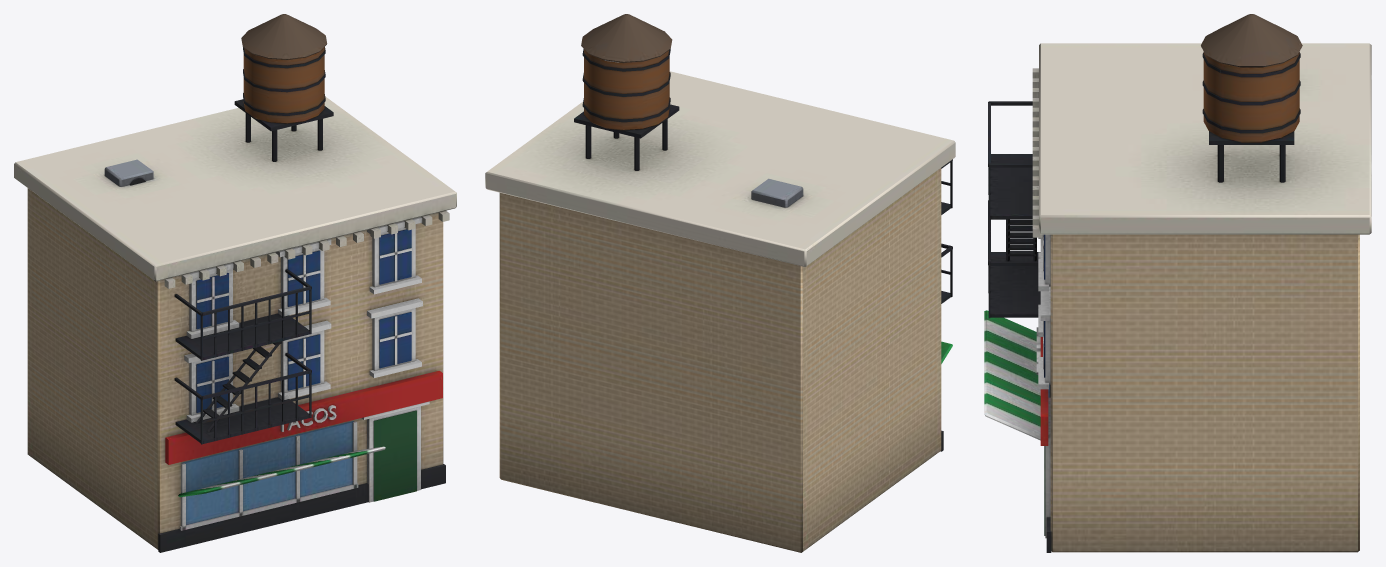
The model's file is tienda_crema.glb.
The picture shows the model from 3 angles, left to right: view 1: azimuth 30°, elevation 25°; view 2: azimuth 150°, elevation 25°; view 3: azimuth 270°, elevation 25°; orthographic projection. The views are drawn at different scales.
Parts seen in each view (by area): view 1: tienda_crema; view 2: tienda_crema; view 3: tienda_crema.
Part boxes in pixels (left/top/right/bottom): tienda_crema: left=14, top=14, right=456, bottom=552; tienda_crema: left=485, top=14, right=955, bottom=552; tienda_crema: left=984, top=14, right=1371, bottom=552.
Bounding box in the file's own units: 5.3 × 7.07 × 5.01.
1 material, 1 textured.
